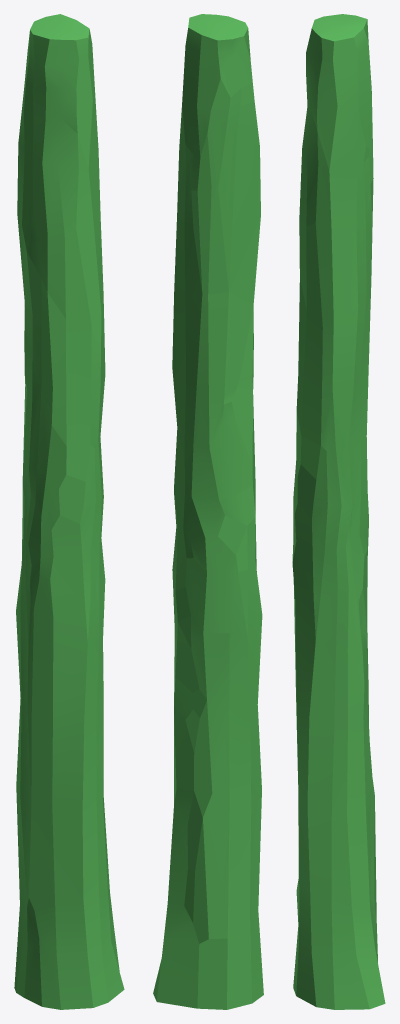
File: jungle_tree_A.fbx
3 views of the same model, side by side, from view 1: azimuth 30°, elevation 25°; view 2: azimuth 210°, elevation 25°; view 3: azimuth 330°, elevation 25° (orthographic).
Parts seen in each view (by area): view 1: jungle_tree_A; view 2: jungle_tree_A; view 3: jungle_tree_A.
Part boxes in pixels (x1,y1,x2,y2): jungle_tree_A: (14, 14, 124, 1009); jungle_tree_A: (153, 14, 263, 1009); jungle_tree_A: (292, 14, 385, 1009).
Bounding box in the file's own units: 93.51 × 939 × 81.98.
